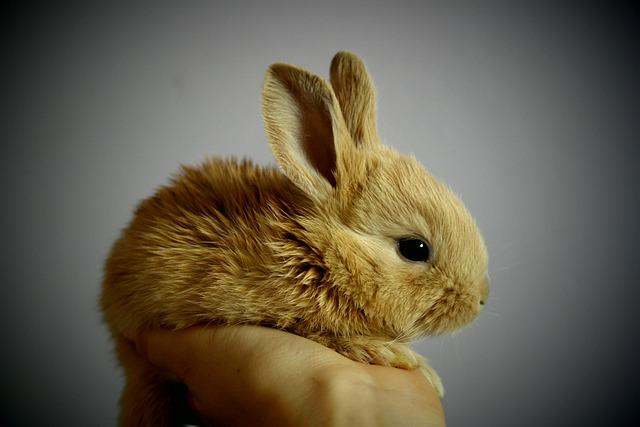Non_Gorille: (74, 42, 559, 427)
